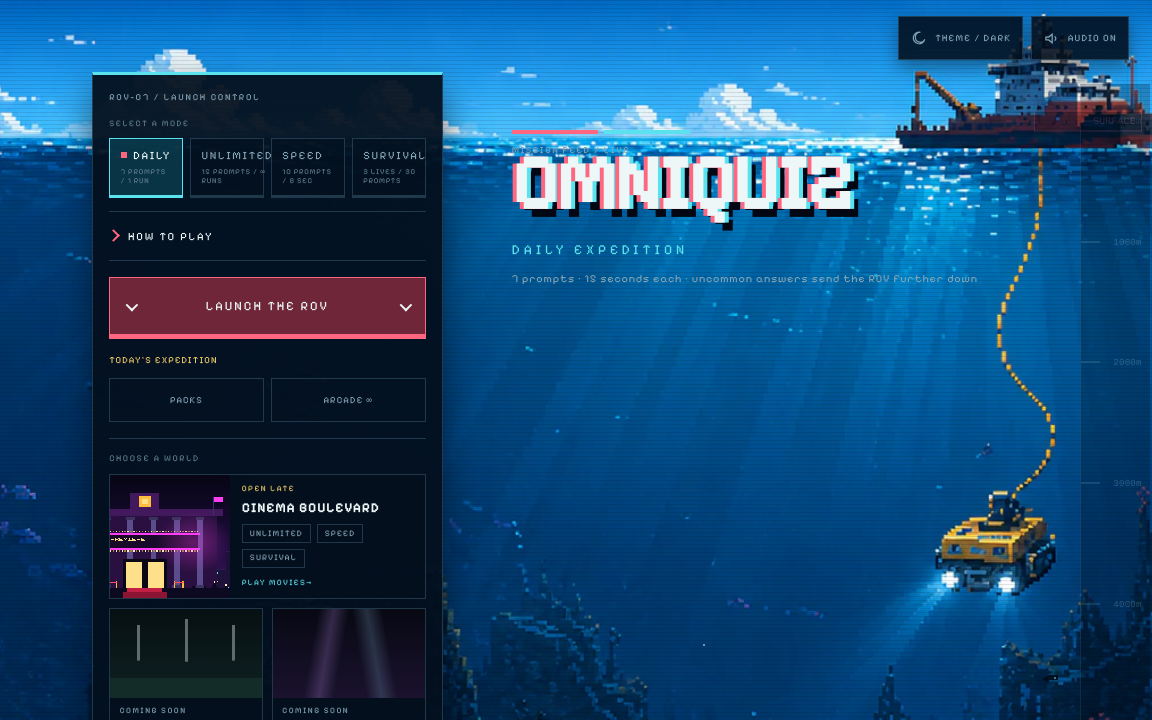
GameExperience › resyncs the absolute deadline immediately after visibility resumes
This screenshot has width=1152, height=720.
Click the button "LAUNCH THE ROV": click(267, 308) [109,277,426,339]
Wait 3000 ms
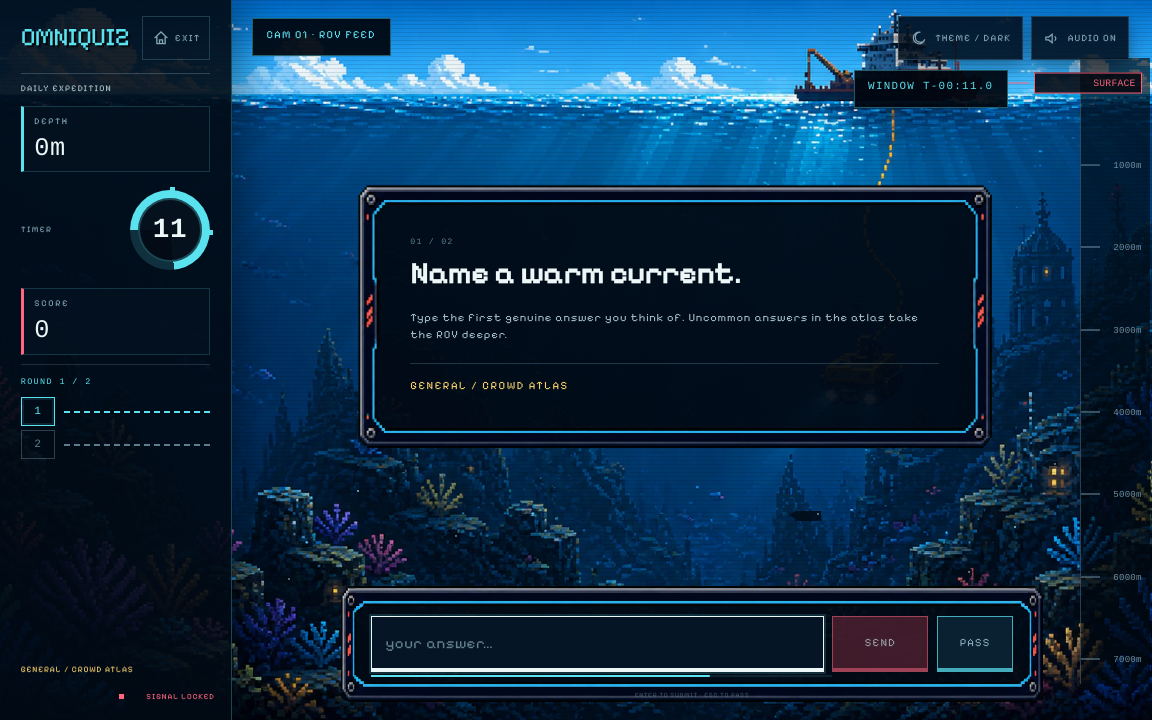
Expected: the text with class "timecode-plate" reads "WINDOW T-00:11.0", [868,81,993,93]
